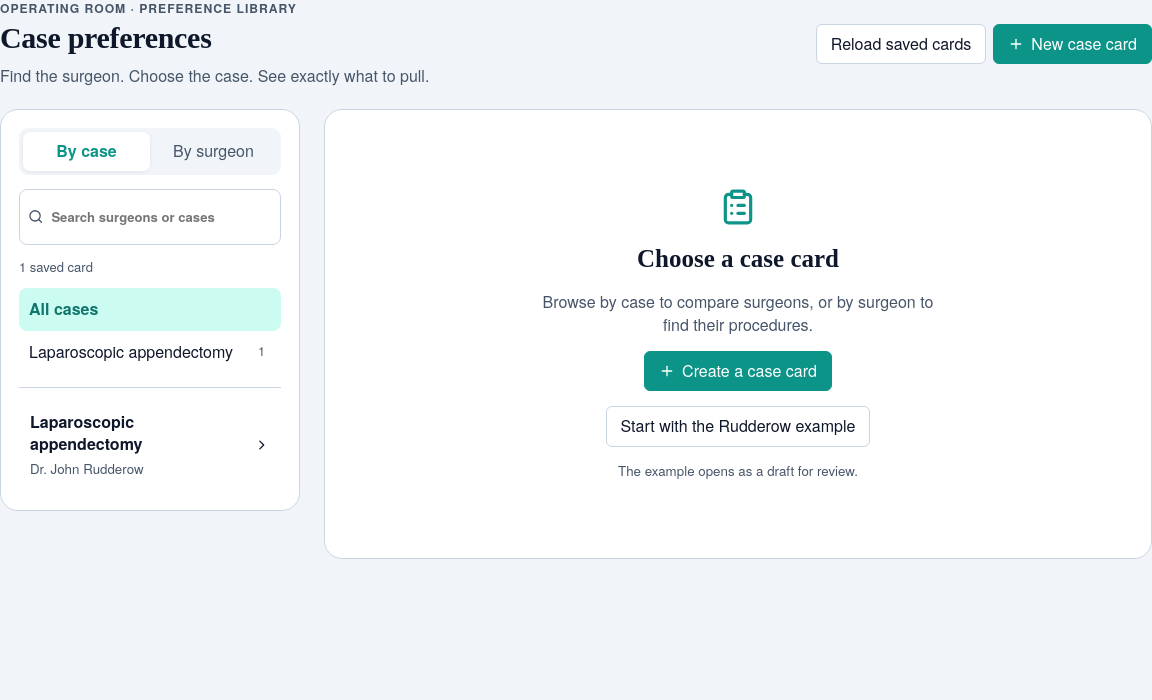
Scenario: preserves the editor draft after a failed save
The width and height of the screenshot is (1152, 700).
Click the button with class "cp-card-result": x=82, y=422 top-left (19, 398), bottom-right (281, 492)
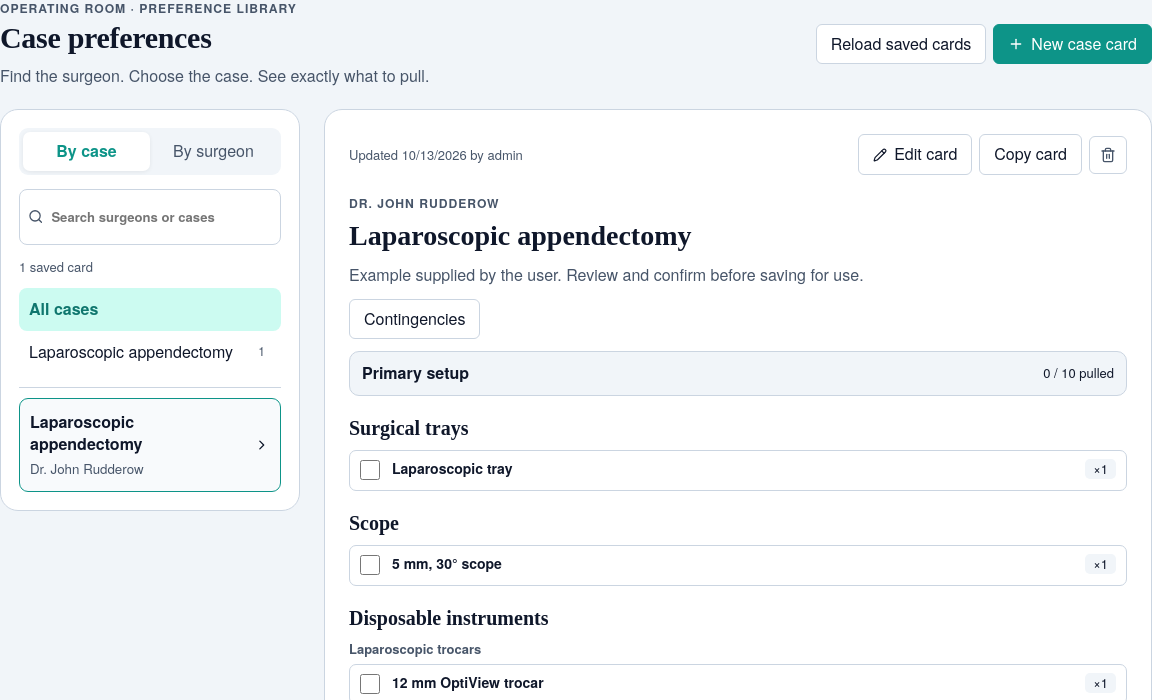
Click the button "Edit card": x=915, y=155 top-left (858, 134), bottom-right (972, 175)
(page scrolled)
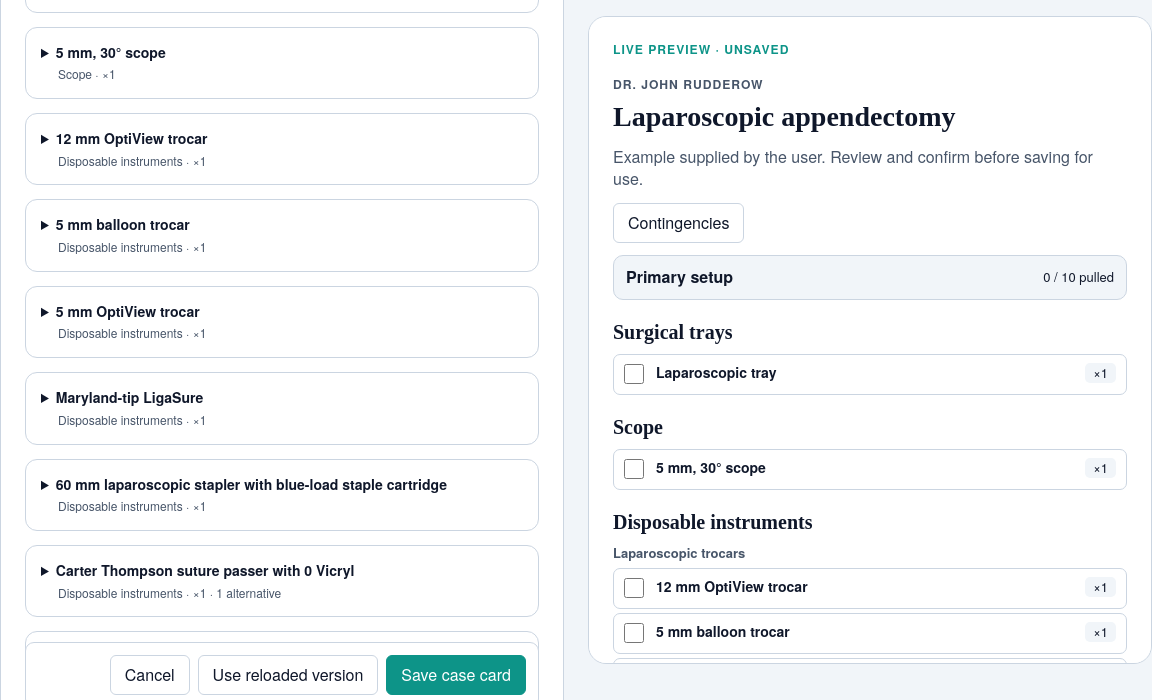
Submit the form
(page scrolled)
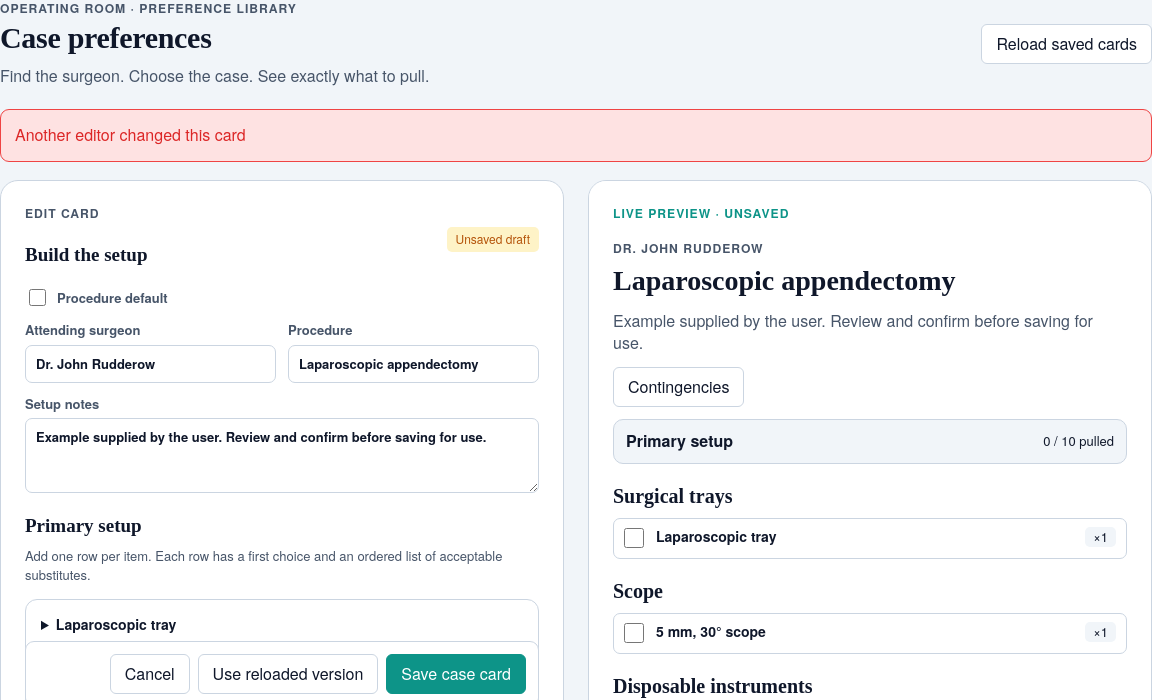
Check: the message "Another editor changed this card" is shown, box top-left (0, 109), bottom-right (1151, 162)
